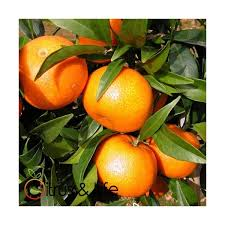orange: (19, 37, 88, 109), (85, 64, 153, 130), (89, 134, 159, 197), (146, 119, 202, 180)
